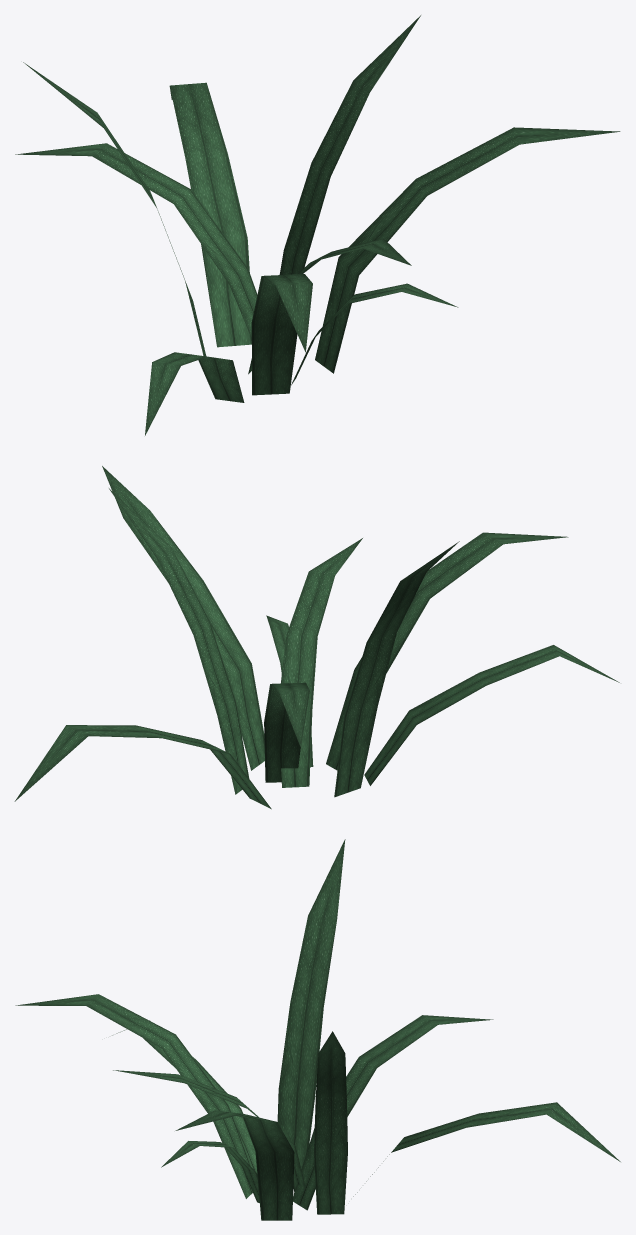
File: kelp_grass.obj
3 views of the same model, one above another, from view 1: azimuth 30°, elevation 25°; view 2: azimuth 150°, elevation 25°; view 3: azimuth 270°, elevation 25° (orthographic). The views are drawn at different scales.
Parts seen in each view (by area): view 1: Leaf.002_Plane.002; view 2: Leaf.002_Plane.002; view 3: Leaf.002_Plane.002.
Part boxes in pixels (left/top/right/bottom): Leaf.002_Plane.002: left=15, top=15, right=620, bottom=435; Leaf.002_Plane.002: left=14, top=466, right=619, bottom=809; Leaf.002_Plane.002: left=15, top=839, right=620, bottom=1220.
Size of the model in its own units: 1.22 by 0.755 by 1.5.
